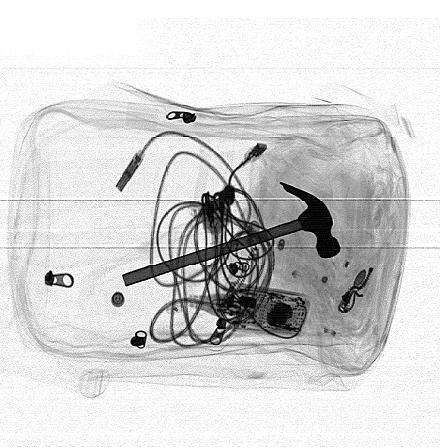Hammer: (122, 181, 341, 288)
